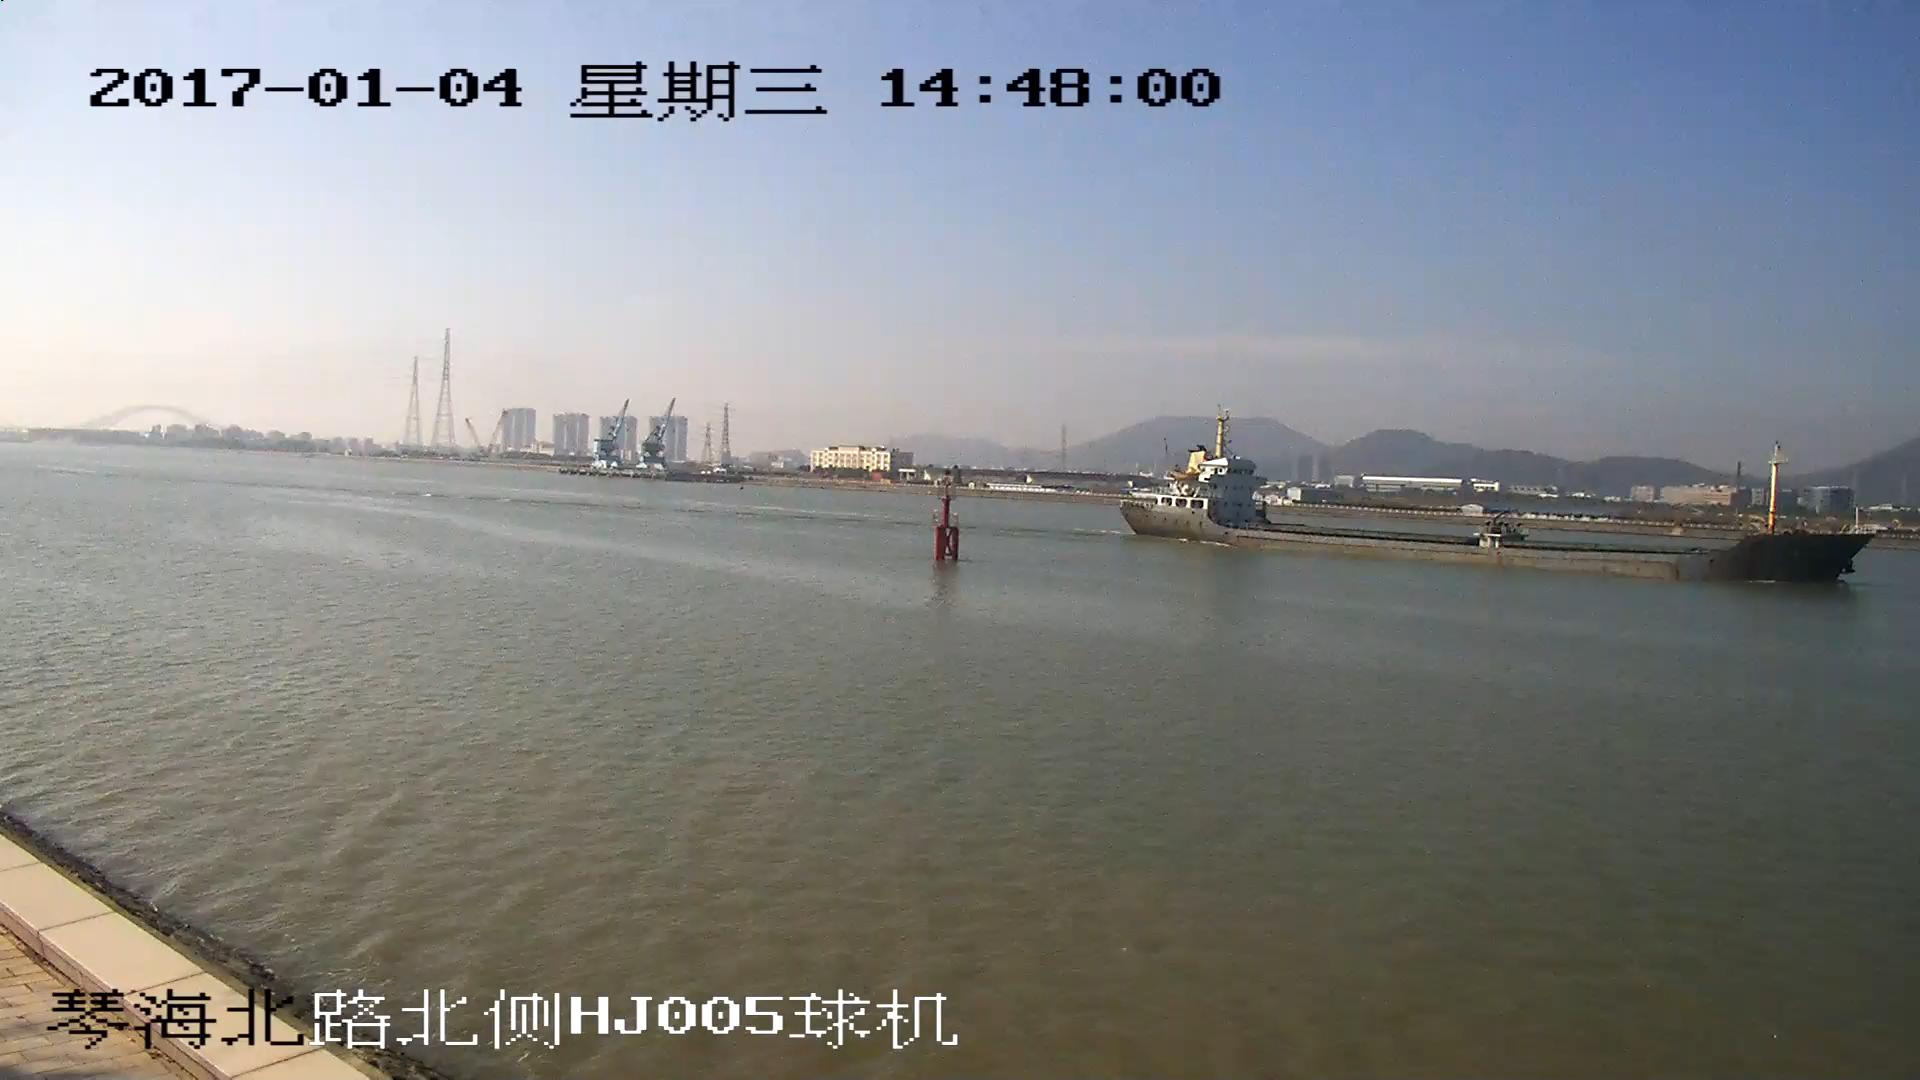general cargo ship: (1122, 424, 1870, 587)
